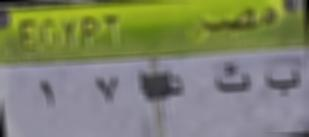1: (32, 71, 60, 115)
7: (90, 68, 124, 108)
baa: (260, 62, 304, 98)
thaa: (209, 57, 254, 107)
